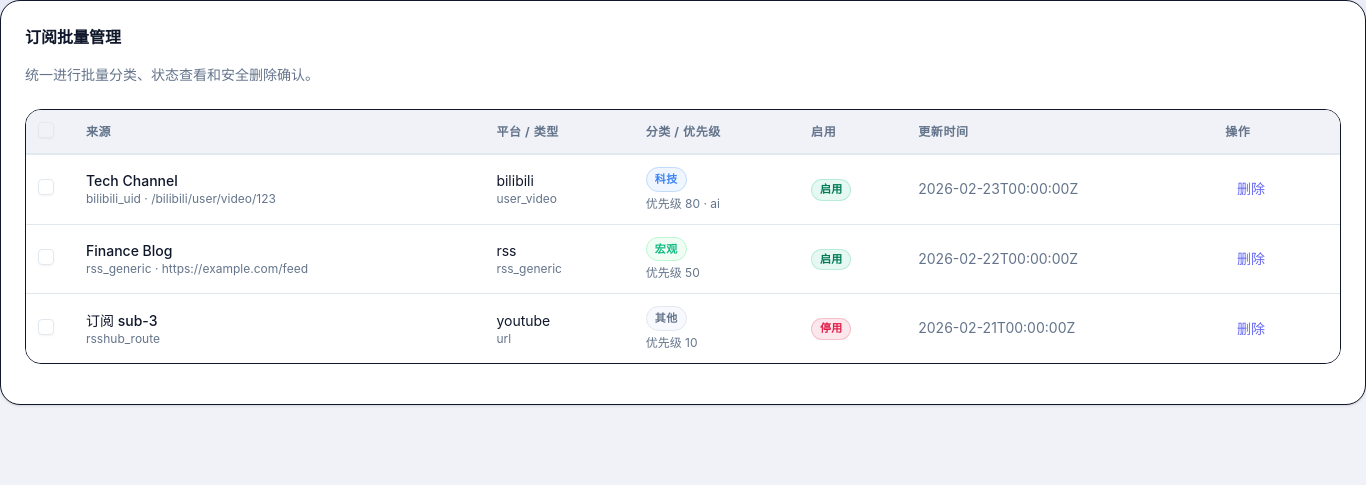
Test: SubscriptionBatchPanel › shows delete failure message when API rejects
Click the button "删除" in the row of "Tech Channel" at (1251,189), box 1225,173 -> 1277,205
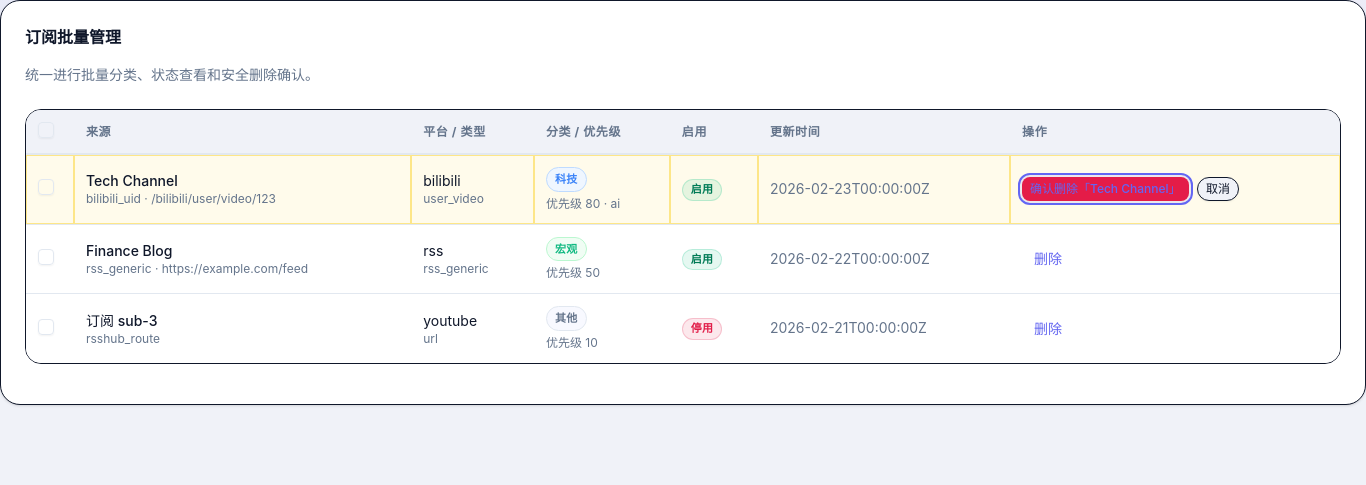
Click the button "确认删除「Tech Channel」" at (1105,189), box 1022,177 -> 1189,201
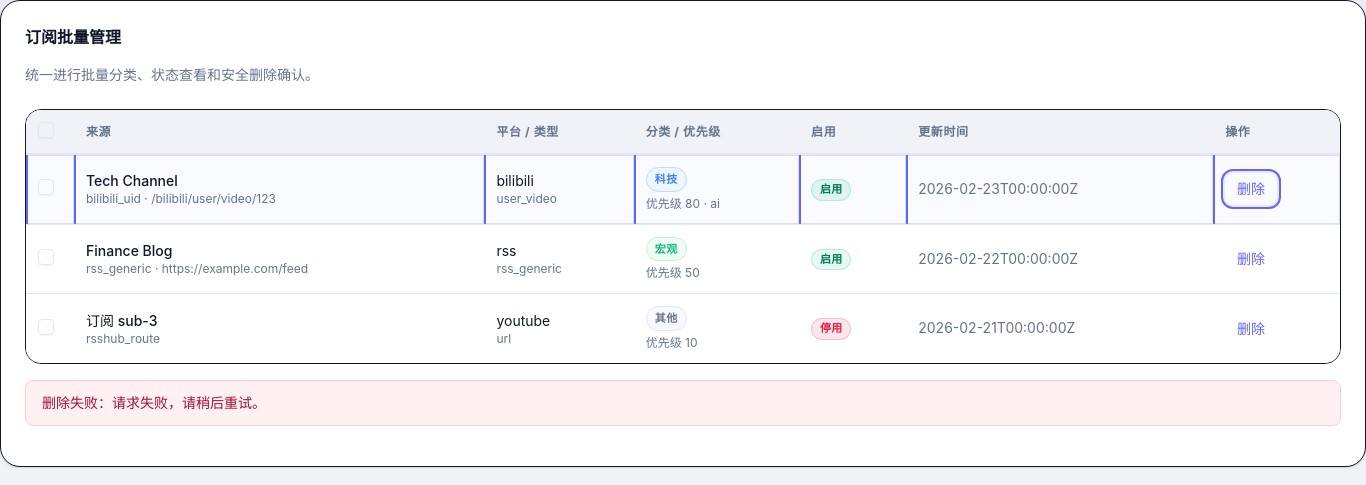
Expected: the text "删除失败：请求失败，请稍后重试。" is shown, 25,380 -> 1341,426
